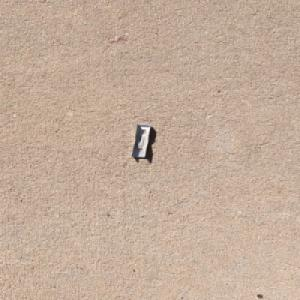ClampPart: (129, 123, 153, 158)
